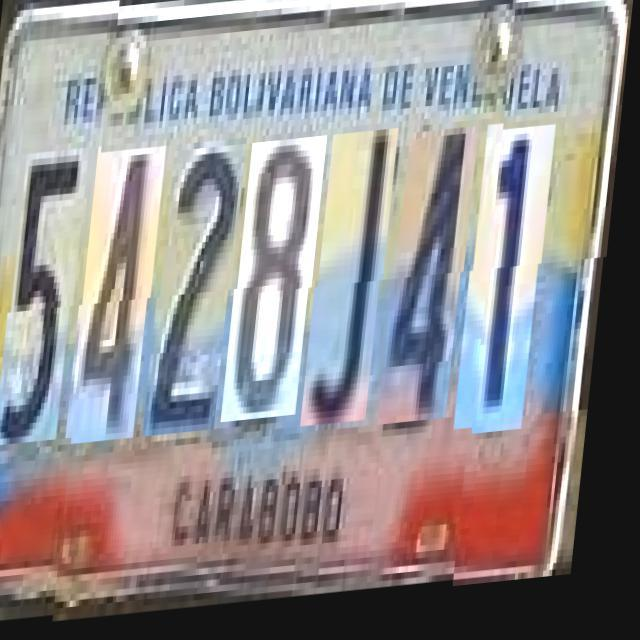1: (467, 130, 560, 440)
2: (156, 144, 250, 440)
4: (390, 136, 482, 434), (78, 150, 170, 447)
5: (6, 156, 92, 453)
8: (234, 143, 330, 428)
J: (313, 137, 402, 434)
